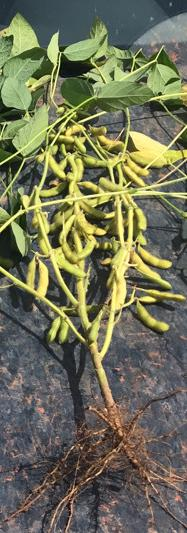soja: (123, 257, 175, 288), (135, 301, 172, 335), (136, 243, 177, 266), (129, 148, 165, 172), (145, 287, 187, 305), (56, 259, 86, 281), (122, 165, 149, 189), (36, 256, 49, 304), (53, 205, 81, 226), (35, 183, 71, 198), (48, 157, 69, 182), (46, 317, 64, 346), (124, 159, 151, 178), (73, 303, 108, 317), (27, 256, 40, 293), (101, 178, 131, 193), (76, 237, 95, 260), (77, 213, 95, 237), (35, 233, 52, 257), (135, 207, 152, 231), (88, 318, 102, 346), (60, 216, 74, 244), (82, 154, 110, 168), (91, 238, 120, 251), (60, 315, 72, 345), (100, 139, 127, 152), (49, 134, 77, 146), (137, 295, 167, 306), (79, 181, 106, 193), (87, 205, 109, 219), (103, 271, 117, 291), (74, 159, 85, 182), (63, 244, 76, 262), (134, 235, 150, 247), (71, 140, 85, 153), (33, 153, 49, 164), (90, 128, 109, 137), (70, 125, 87, 134), (99, 259, 116, 267), (95, 225, 110, 234), (56, 108, 67, 116)
